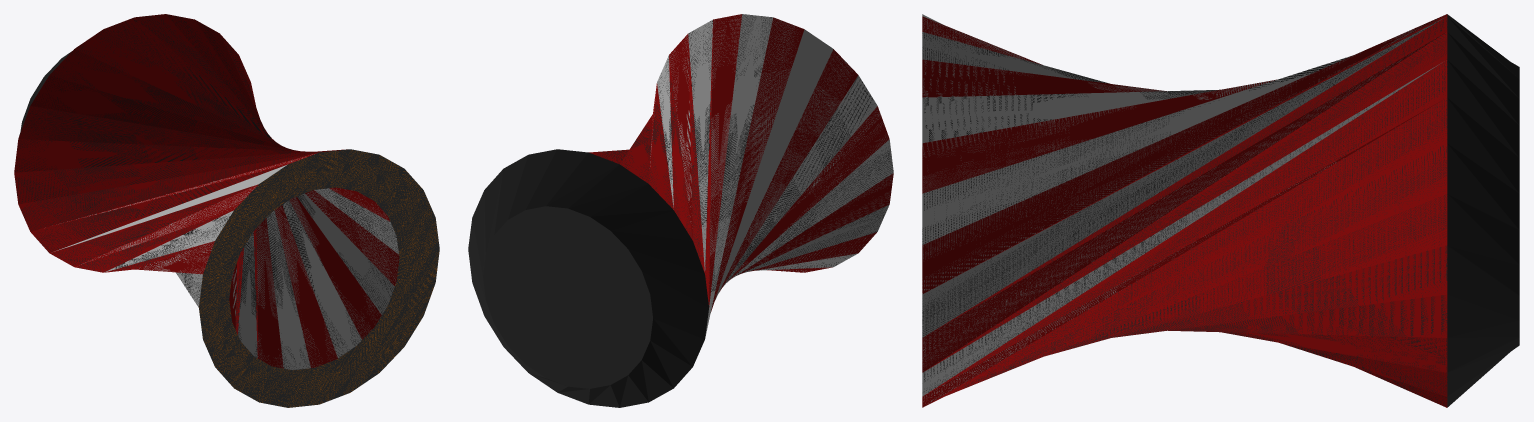
File: model_align.obj
The picture shows the model from 3 angles, left to right: view 1: azimuth 30°, elevation 25°; view 2: azimuth 150°, elevation 25°; view 3: azimuth 270°, elevation 25°; orthographic projection. The views are drawn at different scales.
Visible parts, largest first — view 1: mesh1_mesh1-geometry; view 2: mesh1_mesh1-geometry; view 3: mesh1_mesh1-geometry.
Part boxes in pixels (x1,y1,x2,y2): mesh1_mesh1-geometry: (14,14,439,407); mesh1_mesh1-geometry: (468,14,893,407); mesh1_mesh1-geometry: (922,14,1519,407).
Bounding box in the file's own units: 0.0742 × 0.0742 × 0.1122.
